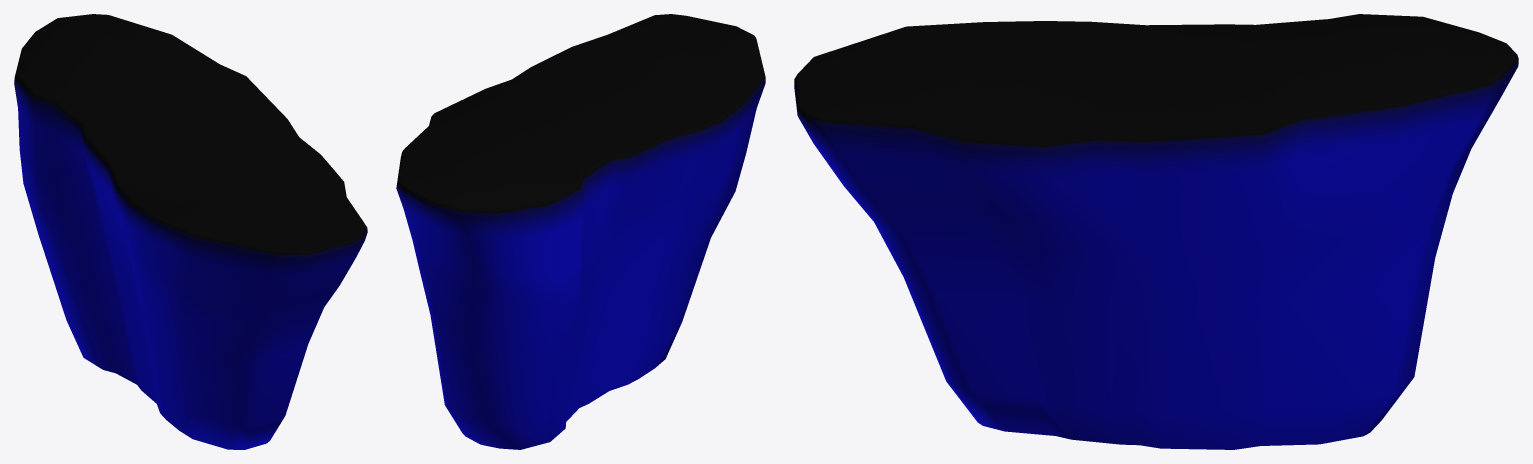
Rendered from Cliff_grassCovered2_GEO.fbx.
3 renders of one model, left to right at view 1: azimuth 30°, elevation 25°; view 2: azimuth 150°, elevation 25°; view 3: azimuth 270°, elevation 25°, orthographic. The views are drawn at different scales.
Visible parts, largest first — view 1: Cliff_grassCovered2_LOD0; view 2: Cliff_grassCovered2_LOD0; view 3: Cliff_grassCovered2_LOD0.
Part boxes in pixels (bbox=[...]): Cliff_grassCovered2_LOD0: bbox=[14, 14, 367, 449]; Cliff_grassCovered2_LOD0: bbox=[396, 14, 765, 449]; Cliff_grassCovered2_LOD0: bbox=[794, 14, 1518, 449].
Size of what is drawn, in the model's own units: 5.66 by 7.5 by 13.23.
